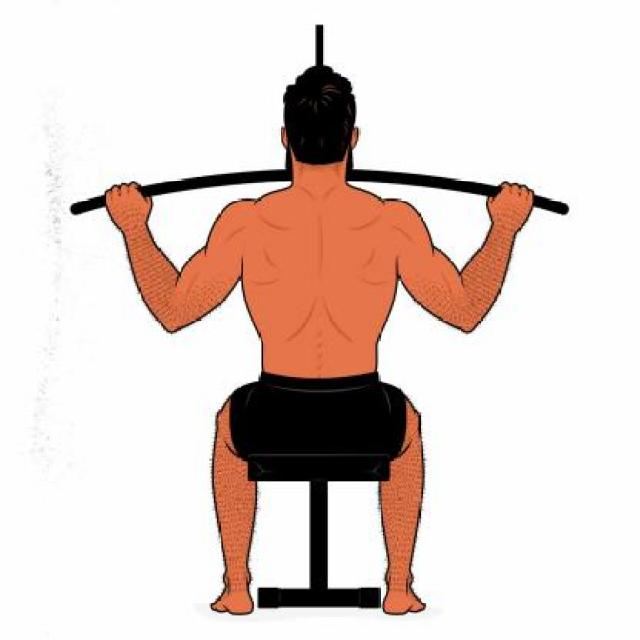Lat Pull Down: (57, 17, 574, 618)
